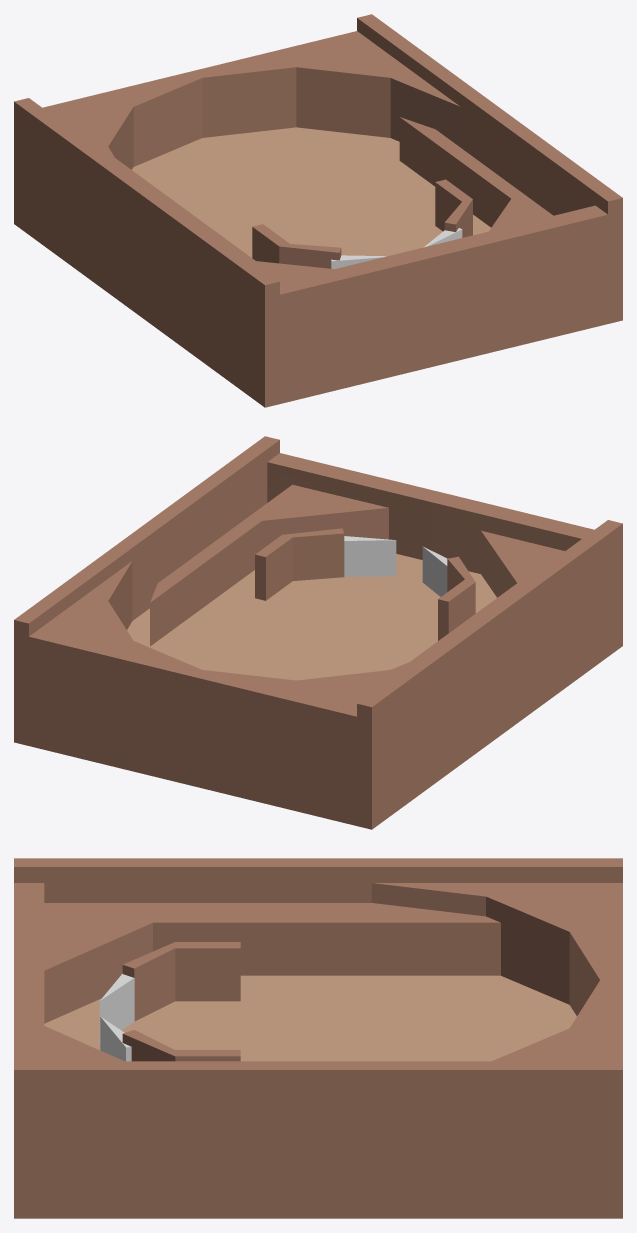
Rendered from minigame_bord.fbx.
The picture shows the model from 3 angles, top to bottom: view 1: azimuth 30°, elevation 25°; view 2: azimuth 150°, elevation 25°; view 3: azimuth 270°, elevation 25°; orthographic projection. The views are drawn at different scales.
Parts seen in each view (by area): view 1: bord; view 2: bord, pin1, pin2; view 3: bord, pin2, pin1.
Part boxes in pixels (x1,y1,x2,y2): bord: [14, 14, 622, 407]; bord: [14, 436, 622, 829]; pin1: [344, 536, 396, 576]; pin2: [422, 546, 447, 596]; bord: [14, 858, 622, 1218]; pin2: [99, 974, 134, 1044]; pin1: [100, 1016, 131, 1061].
Bounding box in the file's own units: 171 × 56 × 208.
